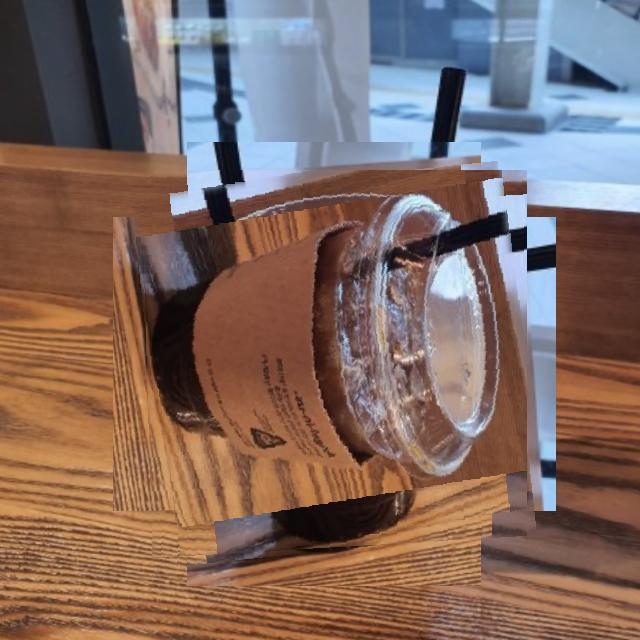recyclable: (141, 170, 527, 558)
